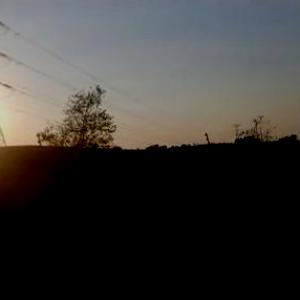follow: (85, 170, 142, 299)
